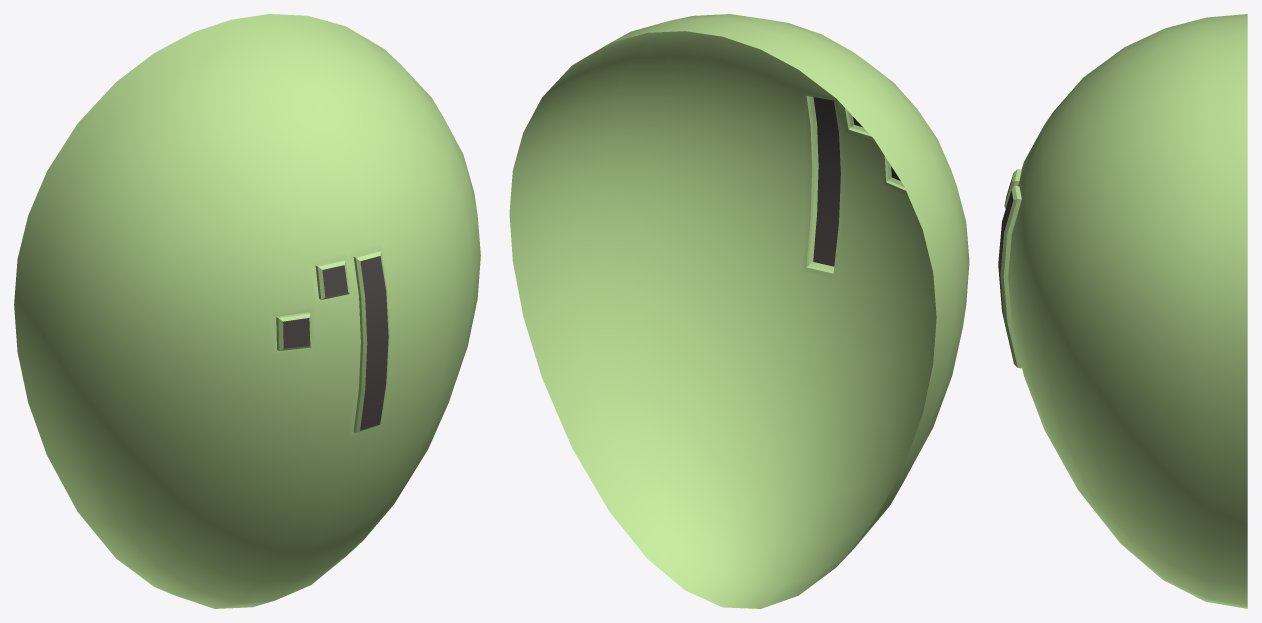
File: MaskFarmer.fbx
3 views of the same model, side by side, from view 1: azimuth 30°, elevation 25°; view 2: azimuth 150°, elevation 25°; view 3: azimuth 270°, elevation 25° (orthographic). The views are drawn at different scales.
Parts seen in each view (by area): view 1: MaskFarmer; view 2: MaskFarmer; view 3: MaskFarmer.
Boxes of the visible parts, x1,y1,x2,y2 form: MaskFarmer: (14, 14, 480, 608); MaskFarmer: (509, 14, 969, 608); MaskFarmer: (998, 14, 1247, 608).
Bounding box in the file's own units: 65.6 × 83.75 × 33.69.
